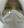with_mask: (1, 1, 24, 28)
